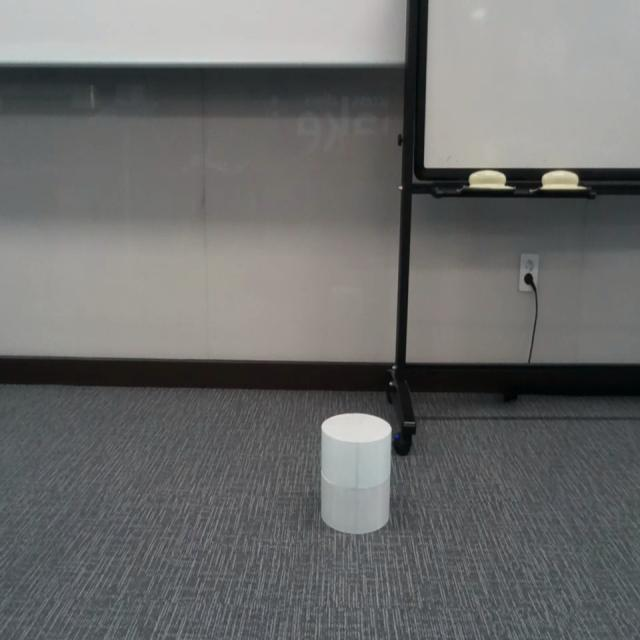cylinder: (321, 411, 392, 534)
